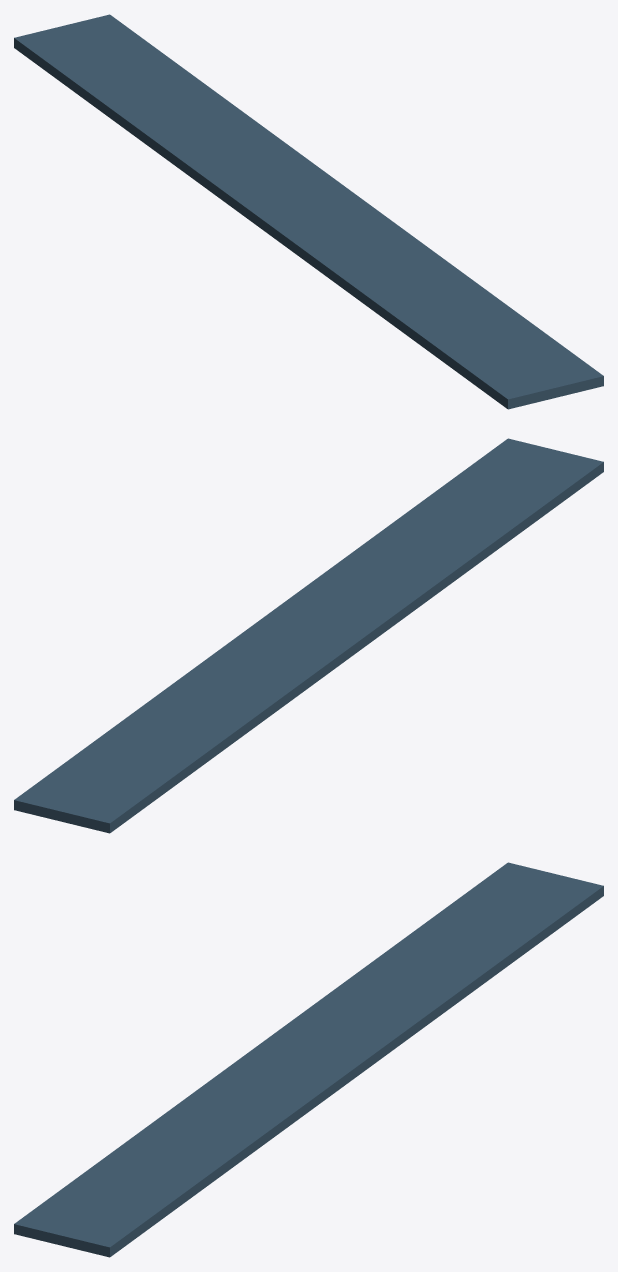
File: v02-04-05-deck.glb
3 renders of one model, top to bottom at view 1: azimuth 30°, elevation 25°; view 2: azimuth 150°, elevation 25°; view 3: azimuth 330°, elevation 25°, orthographic.
Parts seen in each view (by area): view 1: v02-04-05-deck; view 2: v02-04-05-deck; view 3: v02-04-05-deck.
Boxes of the visible parts, left/top/right/bottom form: v02-04-05-deck: left=14, top=14, right=603, bottom=409; v02-04-05-deck: left=14, top=438, right=603, bottom=833; v02-04-05-deck: left=14, top=862, right=603, bottom=1257.
Bounding box in the file's own units: 6 × 0.6 × 53.5.
